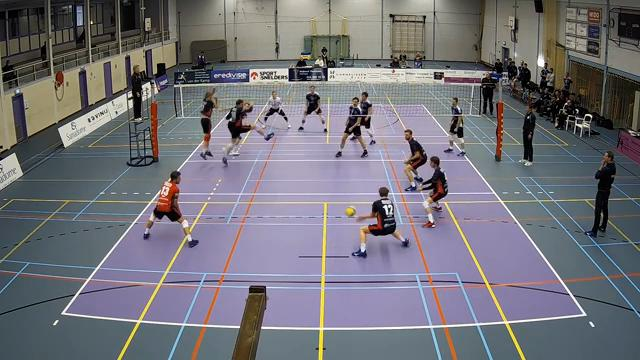Dig: (349, 182, 412, 261)
Player: (143, 170, 198, 246), (222, 99, 273, 164), (418, 156, 447, 227), (335, 97, 367, 157), (404, 129, 426, 190), (298, 85, 326, 131), (445, 97, 465, 155), (200, 88, 216, 159), (262, 91, 290, 128), (360, 92, 375, 144)
ball: (345, 206, 355, 217)
